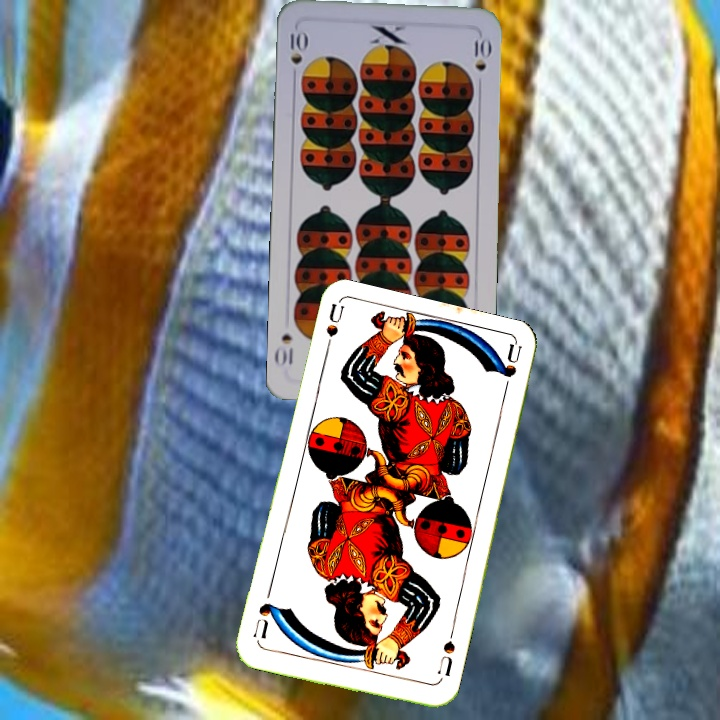S10: (286, 25, 309, 83)
SU: (319, 301, 347, 361), (433, 636, 458, 679)
